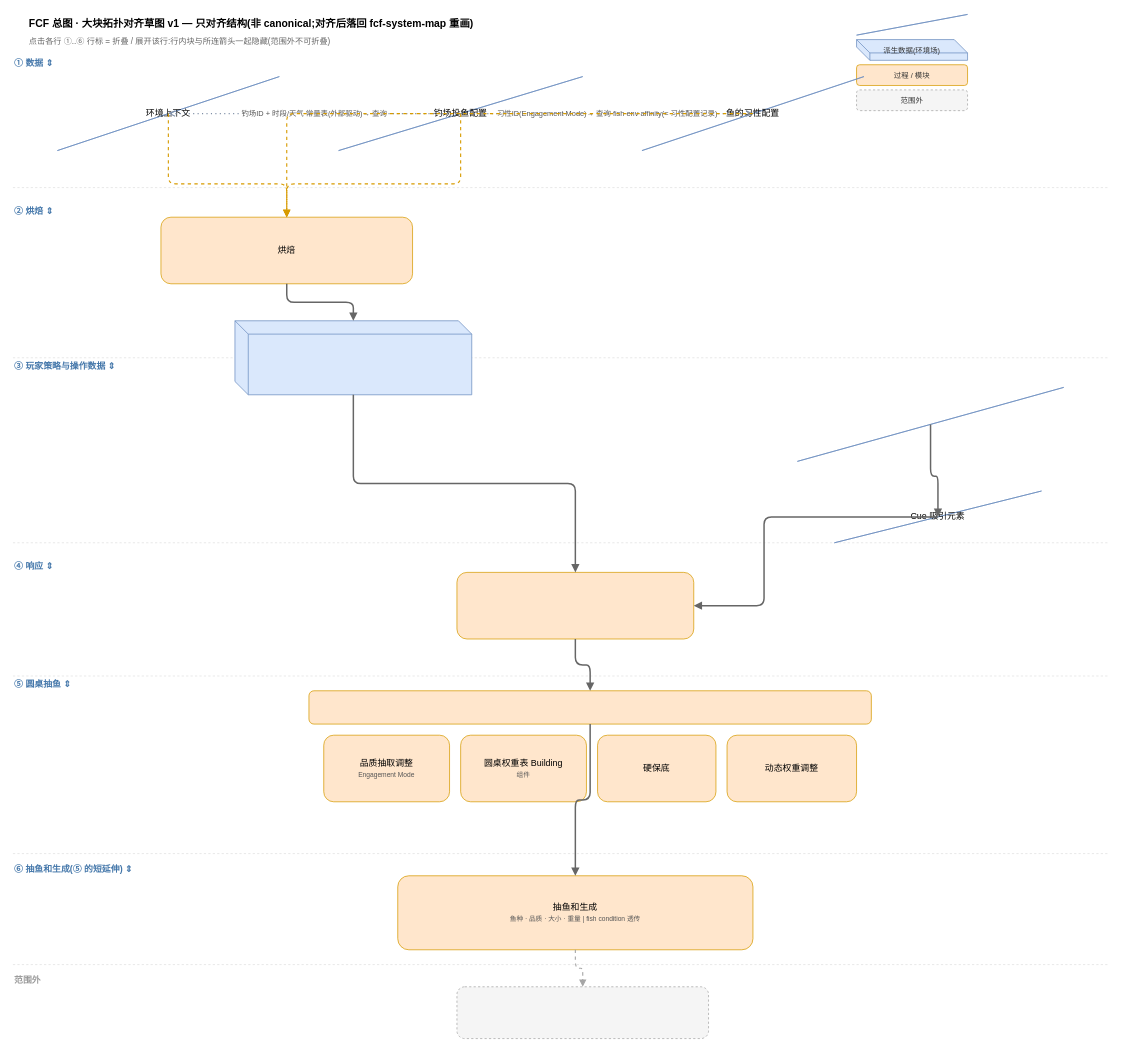
Image size: 1122x1052. Some labels were removed from this diagram. The shapes that lost their labels are listed below. From the top down, each one's centre as x and y in pixels, then its label:
At point 912,24: "数据 / 配置".
At point 353,357: "派生环境场 derived environment field".
At point 930,424: "玩家策略与操作数据 钓具 / 钓组 · 姿态".
At point 575,605: "响应模块 (适配系数 — 逻辑暂不展开)".
At point 589,707: "圆桌抽鱼".
At point 582,1012: "运行 Fish AI(刺鱼 / 博鱼) 超出中鱼范畴 · 最简略,无折叠".
